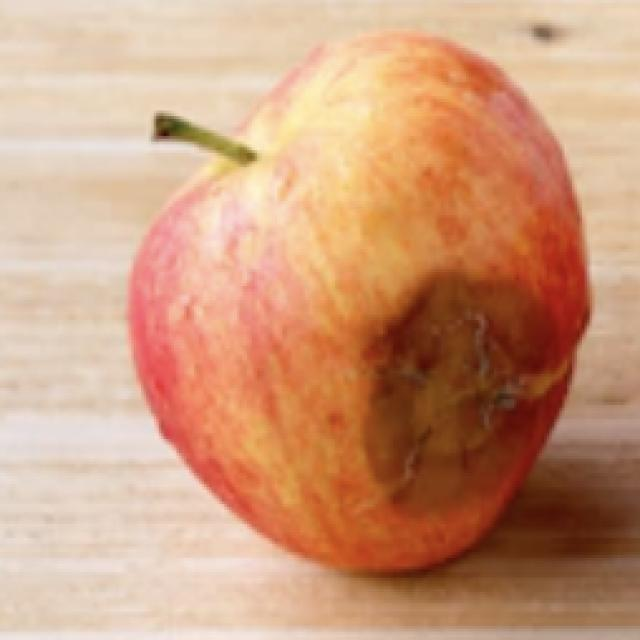Rotten: (148, 44, 595, 574)
